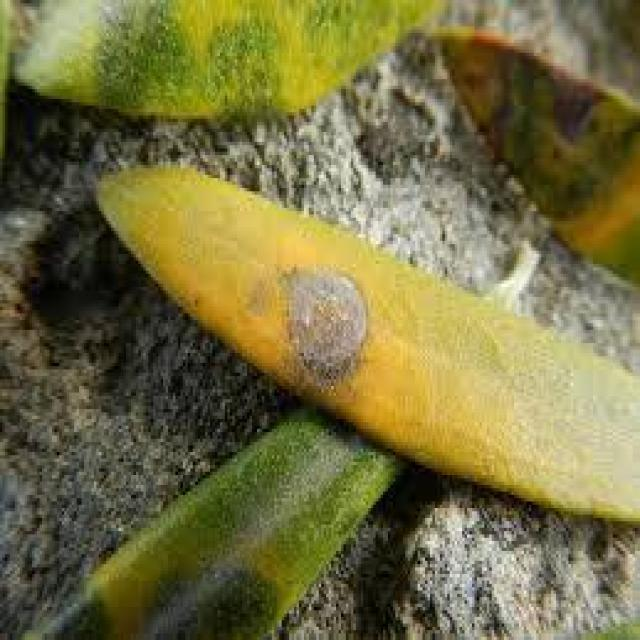OlivePeacockSpot: (98, 165, 638, 505), (24, 452, 390, 637), (442, 30, 638, 264)
